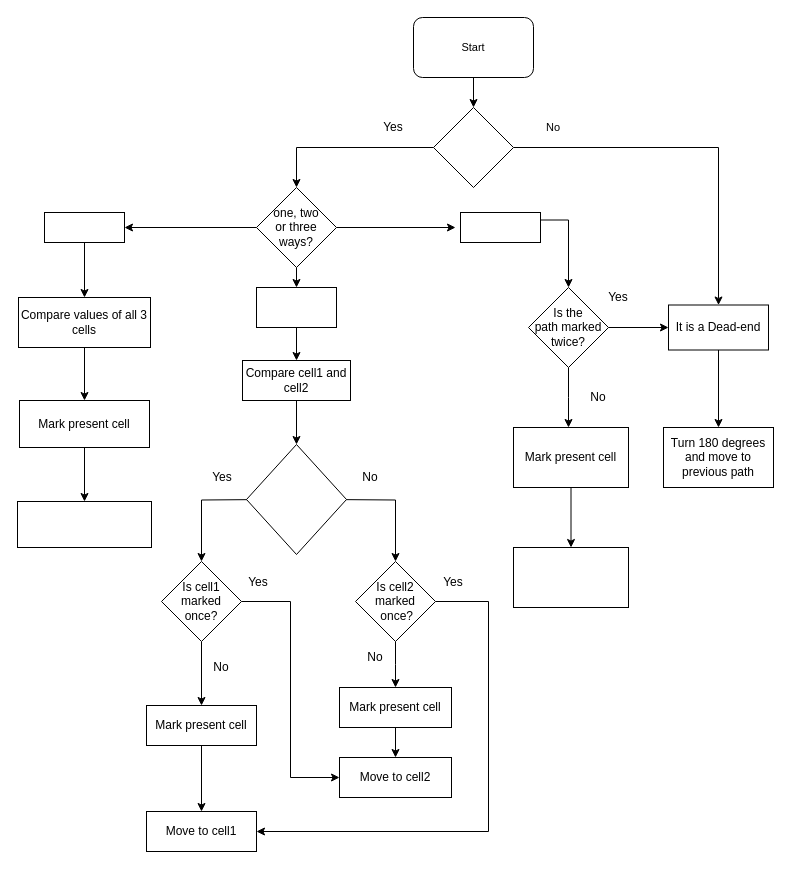
The diagram is 791 pixels wide and 869 high, and some of its shapes have lost their labels. Here are the shapes that lost their labels. From the top down, the centre of each, then its label:
[473,147]: Is there any way out?
[84,227]: Three ways
[500,227]: One way
[296,307]: Two ways
[296,499]: Is cell1 value <= cell2 value ?
[84,524]: Move to the cell with lowest value
[570,577]: Move to next available cell
